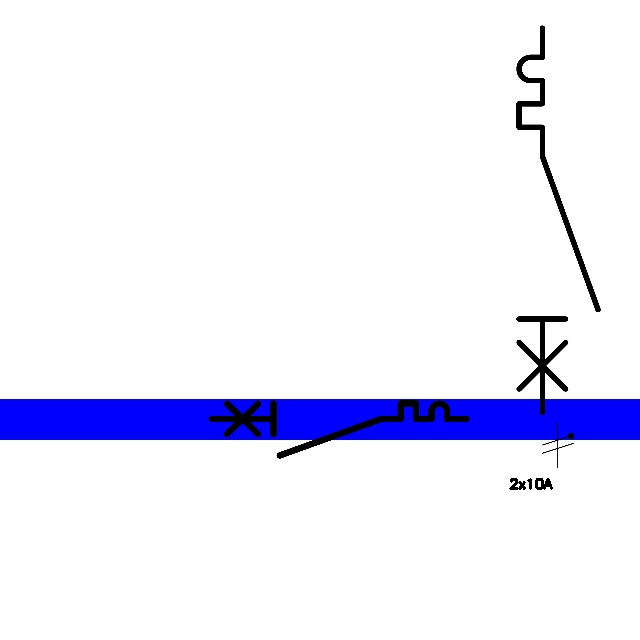interruptor_termomagnetico: (509, 18, 608, 422), (205, 397, 473, 462)
